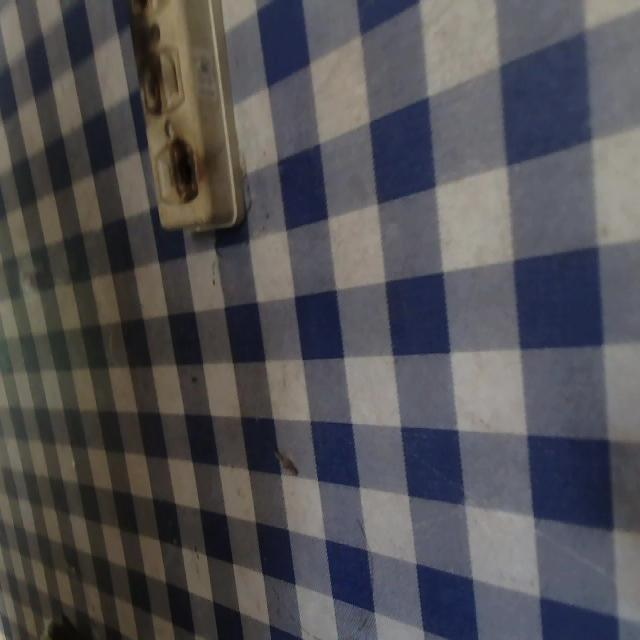-: (130, 48, 168, 120), (167, 136, 202, 203)
